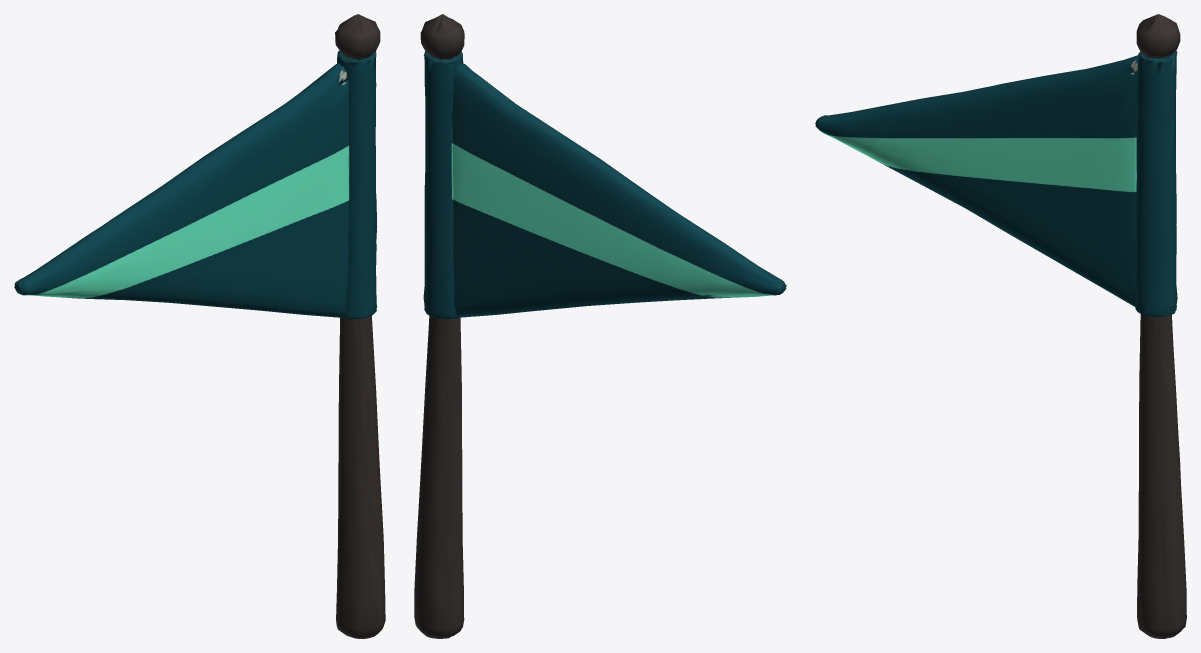
Rendered from signage_banner.glb.
The picture shows the model from 3 angles, left to right: view 1: azimuth 30°, elevation 25°; view 2: azimuth 150°, elevation 25°; view 3: azimuth 330°, elevation 25°; orthographic projection.
Bounding box in the file's own units: 0.6191 × 1 × 0.0723.
Materials: 1 (1 with a texture image).
